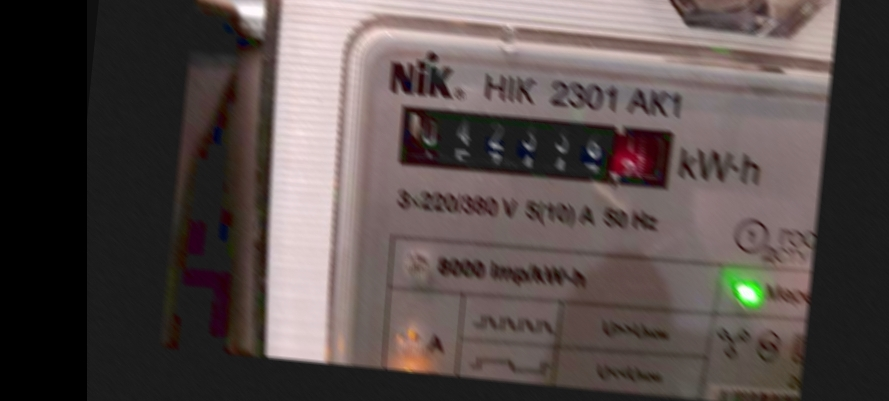0: (420, 117, 439, 146)
1: (624, 131, 638, 154)
2: (488, 119, 507, 150), (619, 156, 637, 176)
3: (552, 123, 571, 154), (520, 122, 538, 151)
4: (455, 115, 474, 146)
6: (586, 128, 606, 160)
screen: (386, 91, 688, 200)
